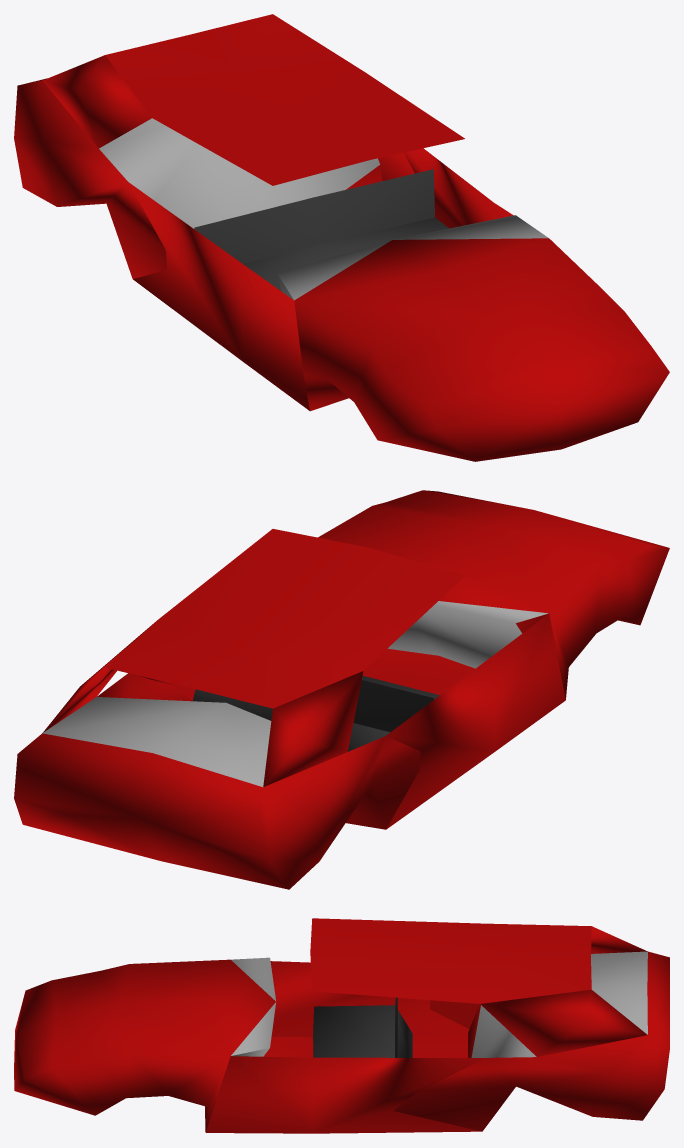
The model's file is InterceptorBodySkeleton.fbx.
3 renders of one model, top to bottom at view 1: azimuth 30°, elevation 25°; view 2: azimuth 150°, elevation 25°; view 3: azimuth 270°, elevation 25°, orthographic. The views are drawn at different scales.
Parts seen in each view (by area): view 1: InterceptorBody; view 2: InterceptorBody; view 3: InterceptorBody.
Part boxes in pixels (box(x1,y1,x2,y2)): InterceptorBody: box(14, 14, 669, 461); InterceptorBody: box(14, 490, 669, 889); InterceptorBody: box(14, 918, 669, 1133).
Bounding box in the file's own units: 16.47 × 10.59 × 44.71.
